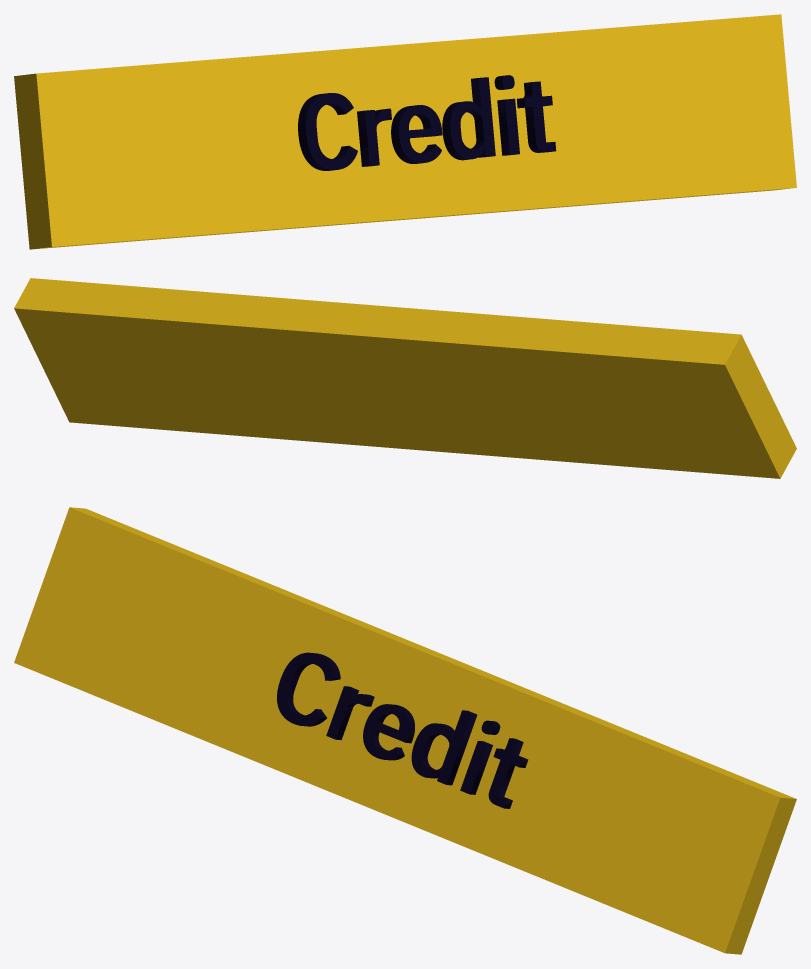
Rendered from credit.glb.
The picture shows the model from 3 angles, top to bottom: view 1: azimuth 30°, elevation 25°; view 2: azimuth 150°, elevation 25°; view 3: azimuth 330°, elevation 25°; orthographic projection. The views are drawn at different scales.
Parts seen in each view (by area): view 1: Plane.021, Text.007; view 2: Plane.021; view 3: Plane.021, Text.007.
Part boxes in pixels (x1,y1,x2,y2): Plane.021: (14,14,796,249); Text.007: (298,75,556,170); Plane.021: (14,278,796,478); Plane.021: (14,507,796,954); Text.007: (277,652,528,808).
Size of the model in its own units: 3.06 by 1.07 by 0.3907.
